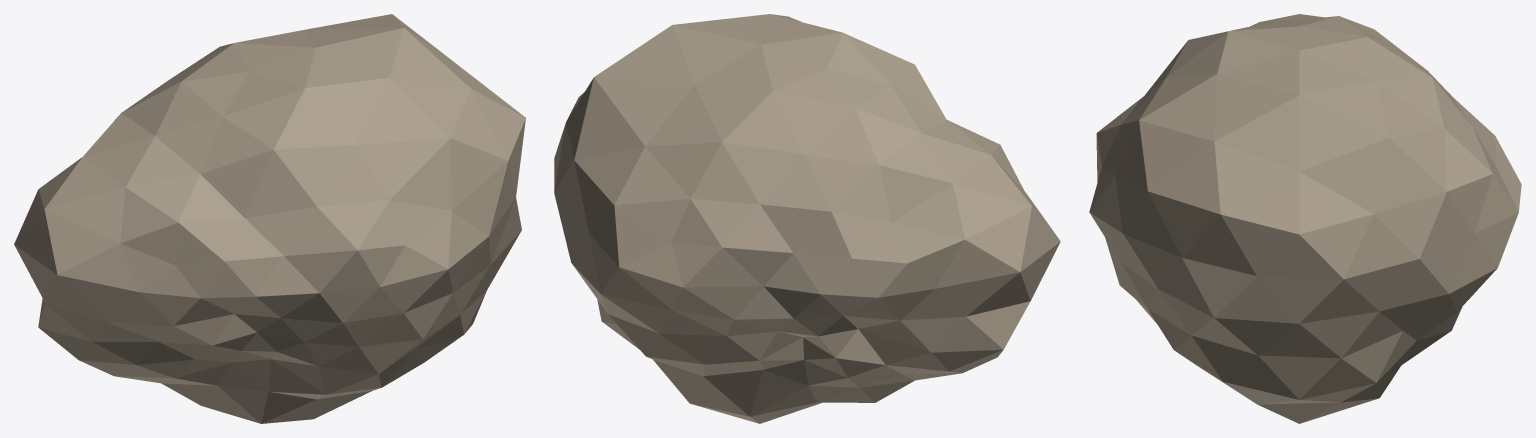
File: rock1.glb
The picture shows the model from 3 angles, left to right: view 1: azimuth 30°, elevation 25°; view 2: azimuth 150°, elevation 25°; view 3: azimuth 270°, elevation 25°; orthographic projection.
Visible parts, largest first — view 1: rock; view 2: rock; view 3: rock.
Part boxes in pixels (left/top/right/bottom): rock: left=14, top=14, right=525, bottom=423; rock: left=554, top=14, right=1060, bottom=423; rock: left=1089, top=14, right=1521, bottom=423.
Bounding box in the file's own units: 2.37 × 1.75 × 1.93.
